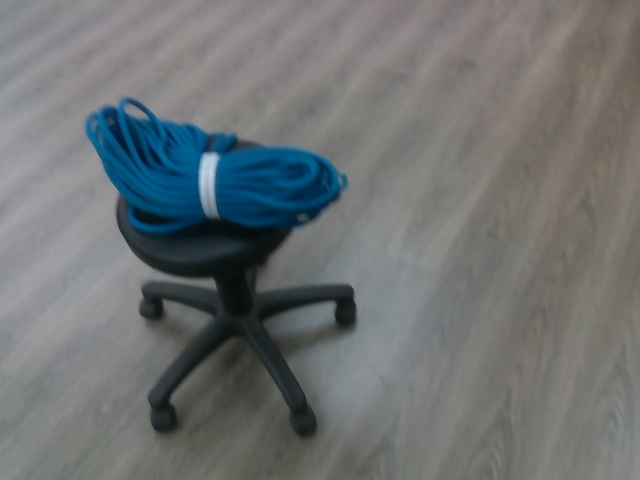rope: (81, 94, 351, 239)
